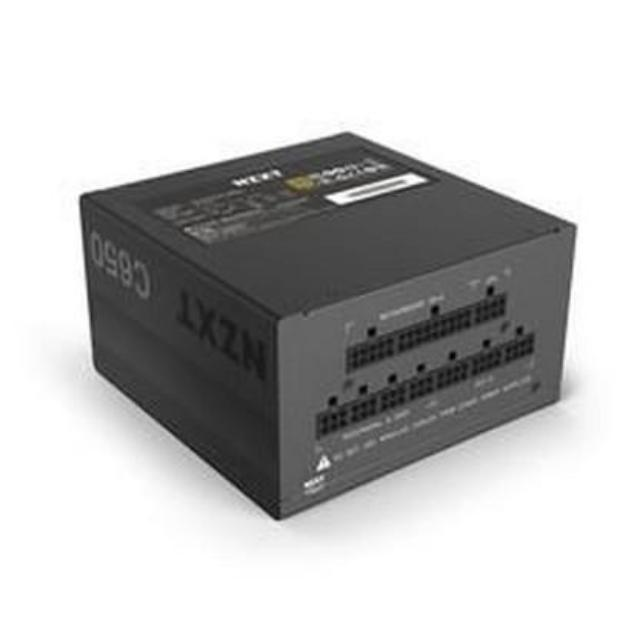PSU: (58, 121, 594, 526)
